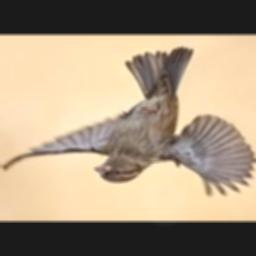Sparrow: (1, 47, 255, 196)
